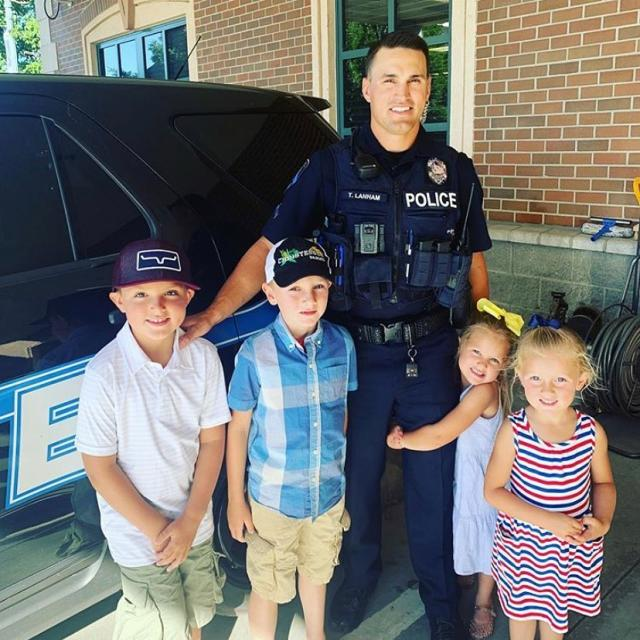police: (262, 17, 484, 630)
